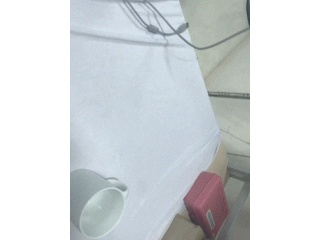cup: (70, 168, 129, 240)
